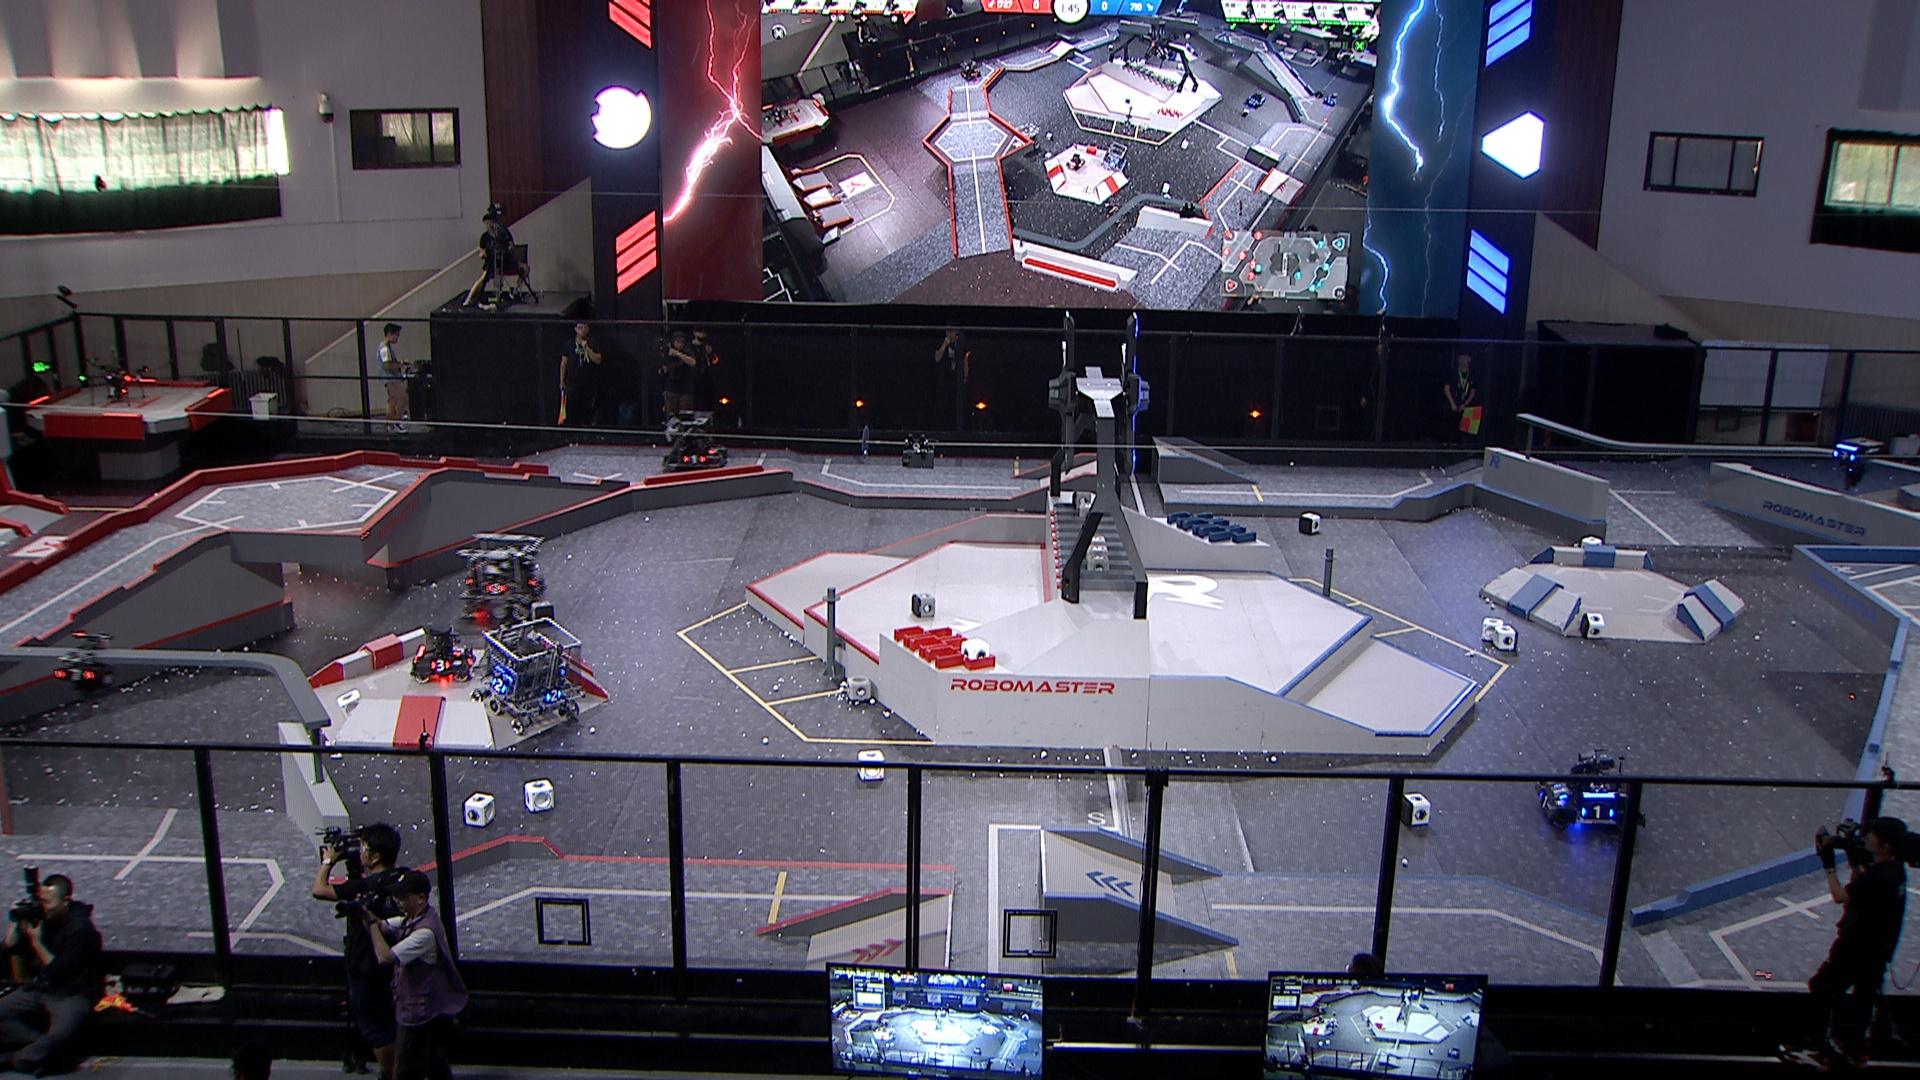armor: (54, 666, 96, 684), (1580, 803, 1617, 822), (1538, 790, 1555, 814), (484, 582, 509, 597), (1832, 450, 1855, 465), (429, 657, 452, 673), (680, 452, 708, 465), (543, 687, 564, 704), (491, 676, 509, 695), (1551, 782, 1569, 800), (452, 644, 467, 659)
car: (472, 616, 589, 735), (1538, 750, 1644, 840), (458, 531, 549, 617), (659, 410, 731, 477), (409, 622, 476, 688)
ignore: (1102, 140, 1127, 173), (1017, 124, 1043, 154), (1106, 202, 1126, 229), (960, 57, 981, 82), (1245, 90, 1269, 111), (1067, 152, 1084, 171), (1324, 90, 1338, 107)
watcher: (53, 632, 116, 698), (1832, 436, 1884, 491)
